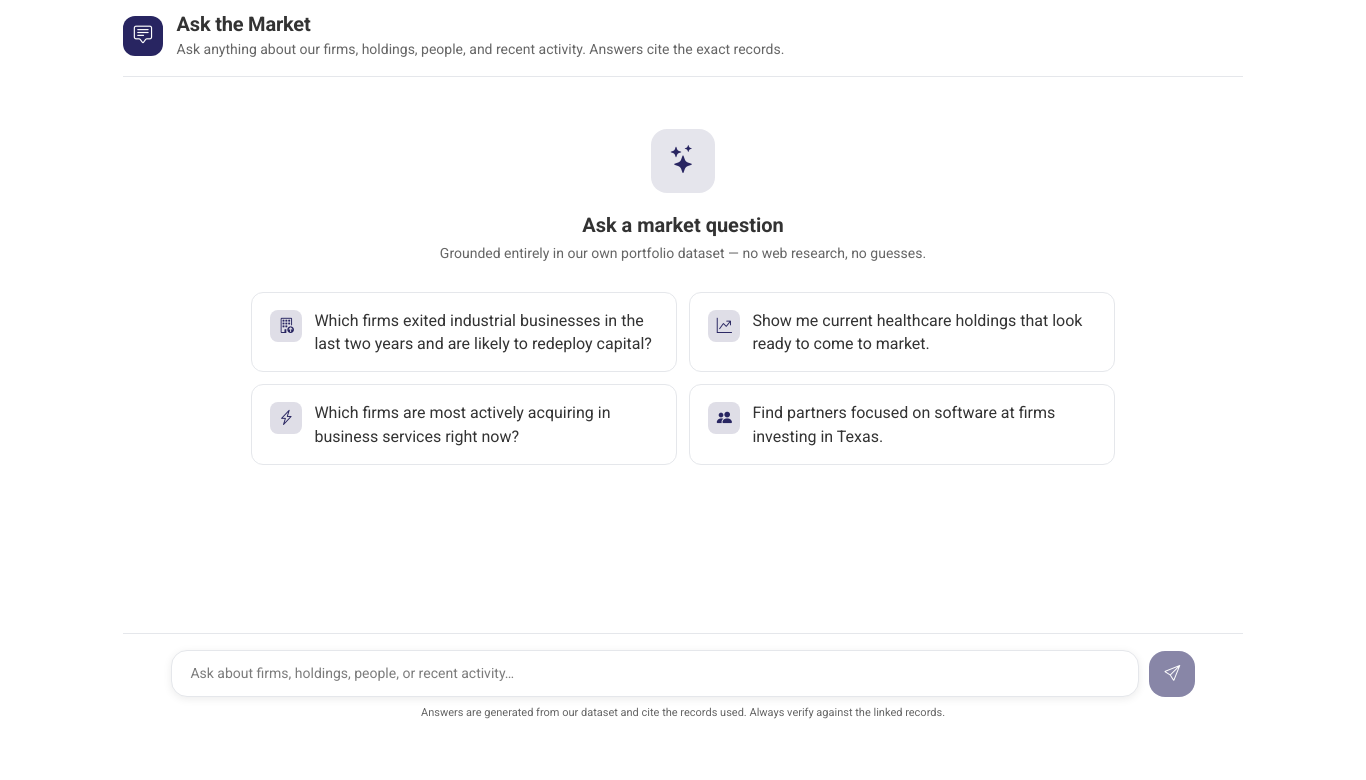
Test: PEAskPage › shows empty-result intent line
This screenshot has width=1366, height=780.
In the text box with test id "qa-input": (655, 673) [171,650,1139,697], type "HVAC in Antarctica"
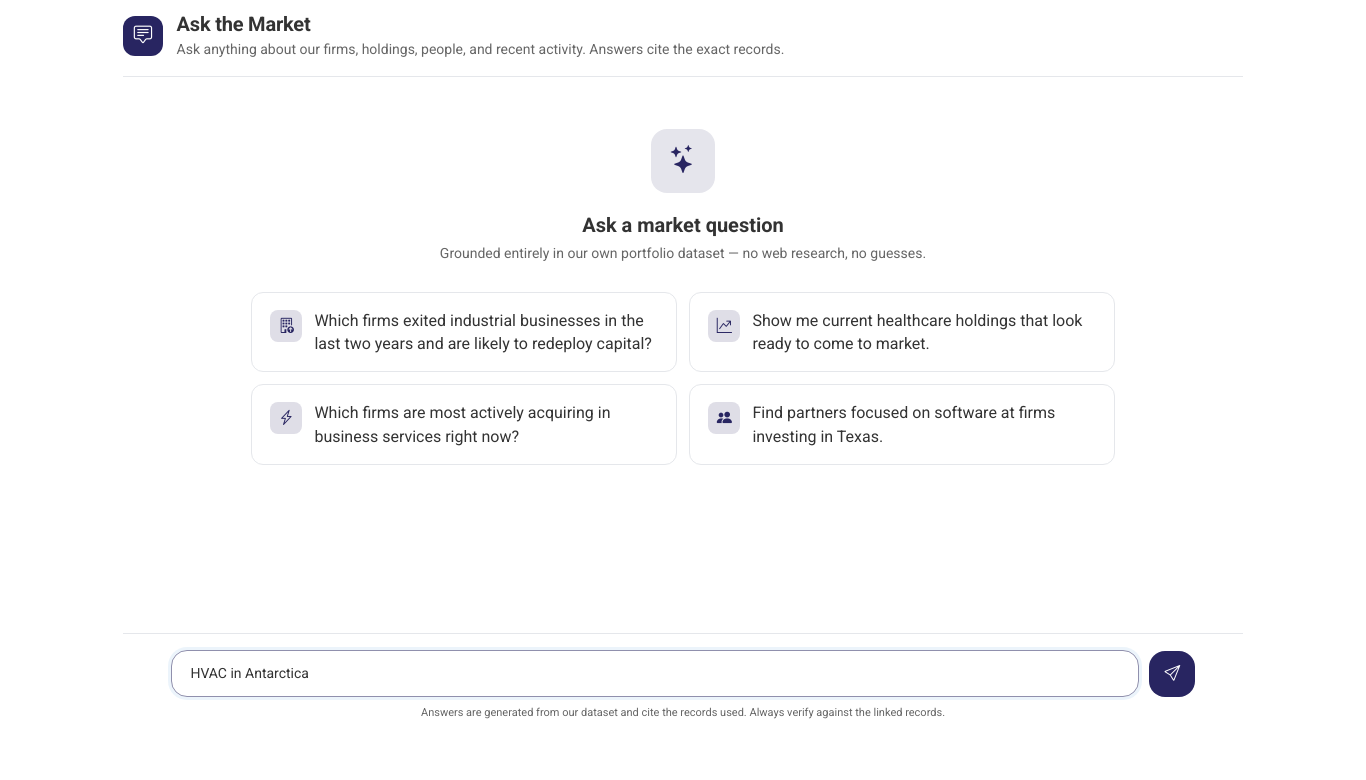
Click the button with test id "qa-send": (1172, 674) [1149,651,1195,697]
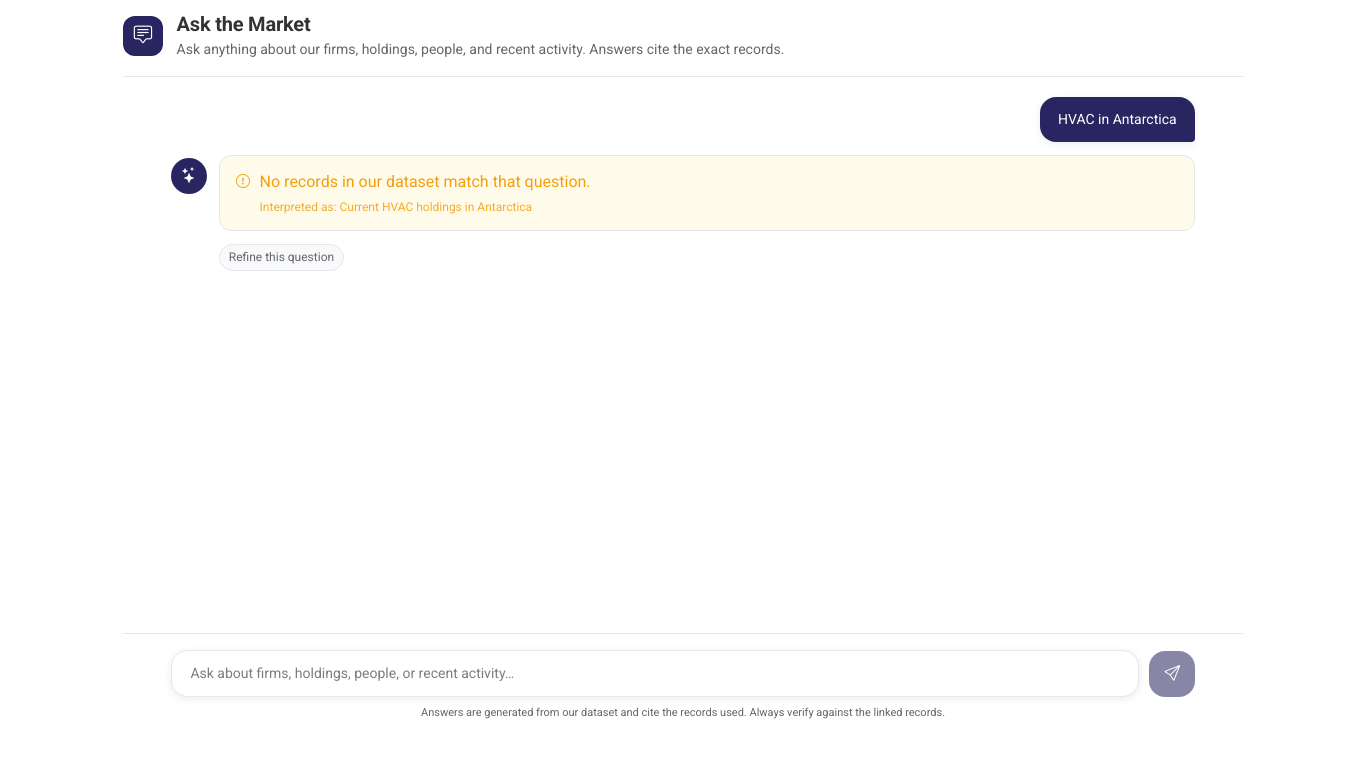
Expected: the message with test id "qa-unsupported" shows "No records", [260,172,591,191]
Expected: the message with test id "qa-unsupported" shows "Interpreted as:", [260,200,340,214]
